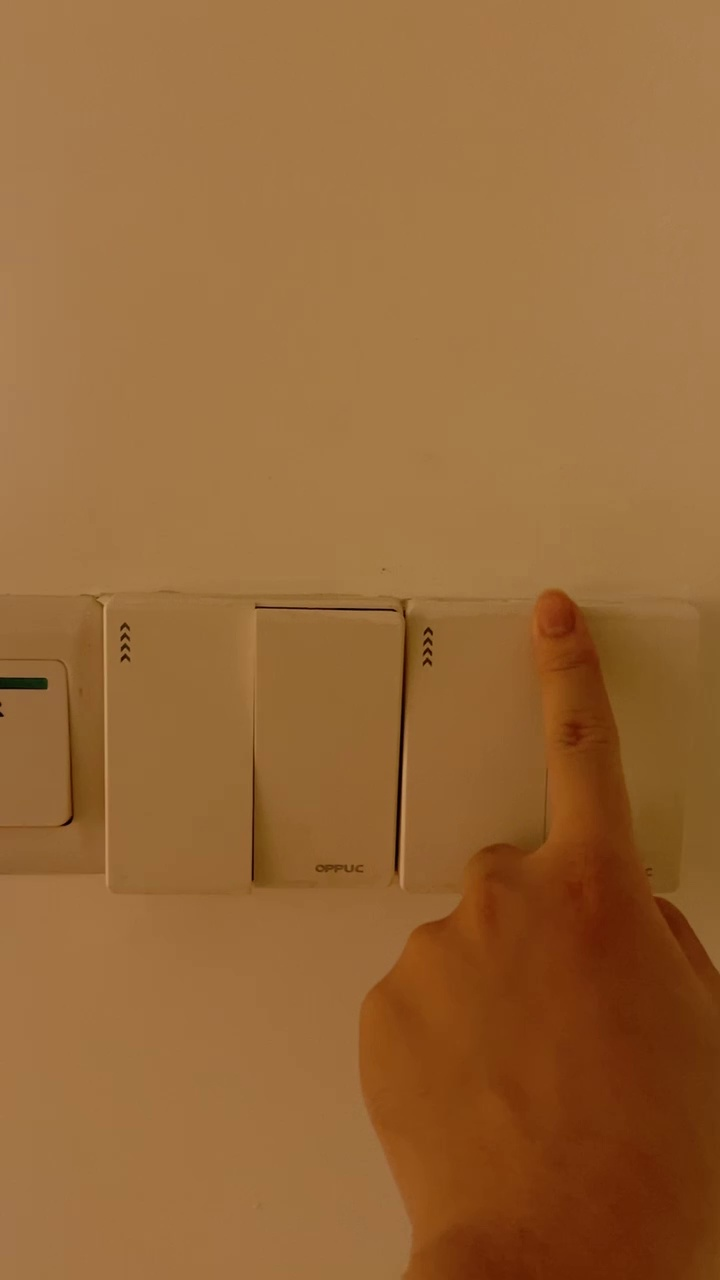button1: (110, 601, 245, 888), (552, 608, 691, 883), (412, 605, 546, 889), (264, 612, 389, 881)
